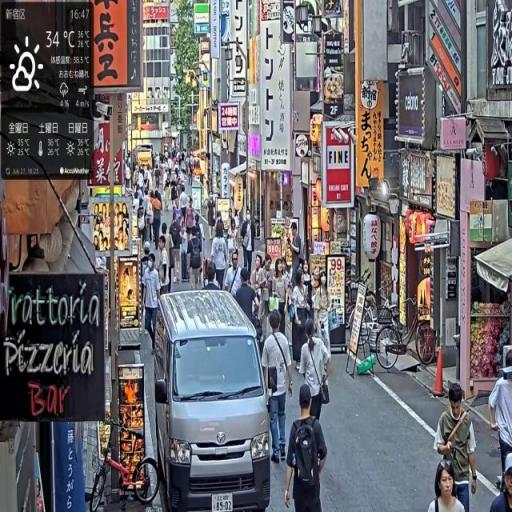person: (435, 381, 479, 512), (284, 383, 328, 512), (262, 312, 295, 468), (488, 357, 512, 499), (300, 319, 332, 425), (290, 267, 311, 374), (430, 459, 467, 512), (143, 252, 163, 345), (211, 224, 229, 293), (491, 454, 512, 512), (187, 226, 205, 292), (241, 209, 256, 280), (225, 251, 244, 299)
